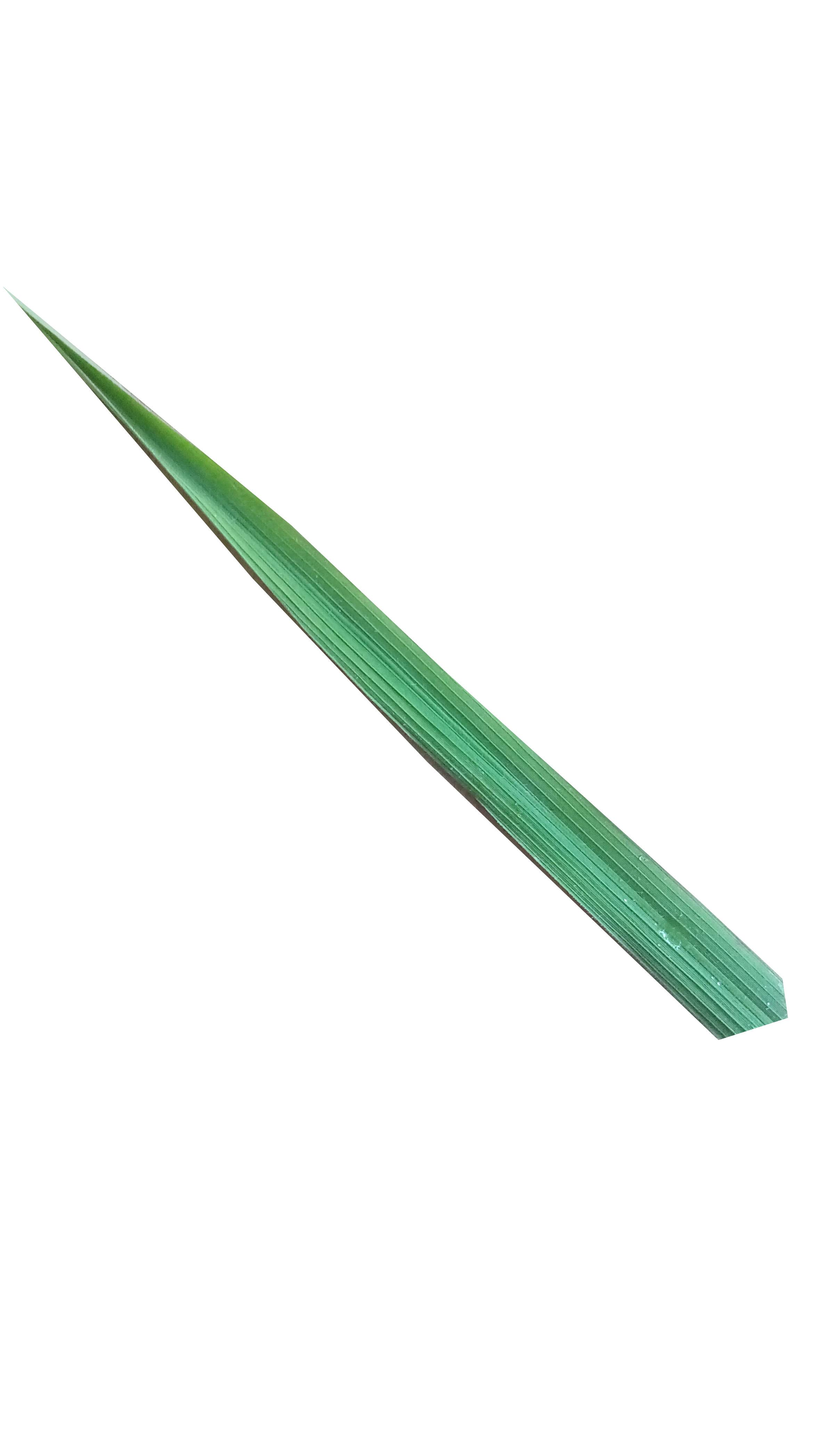Healthy: (9, 292, 789, 1046)
